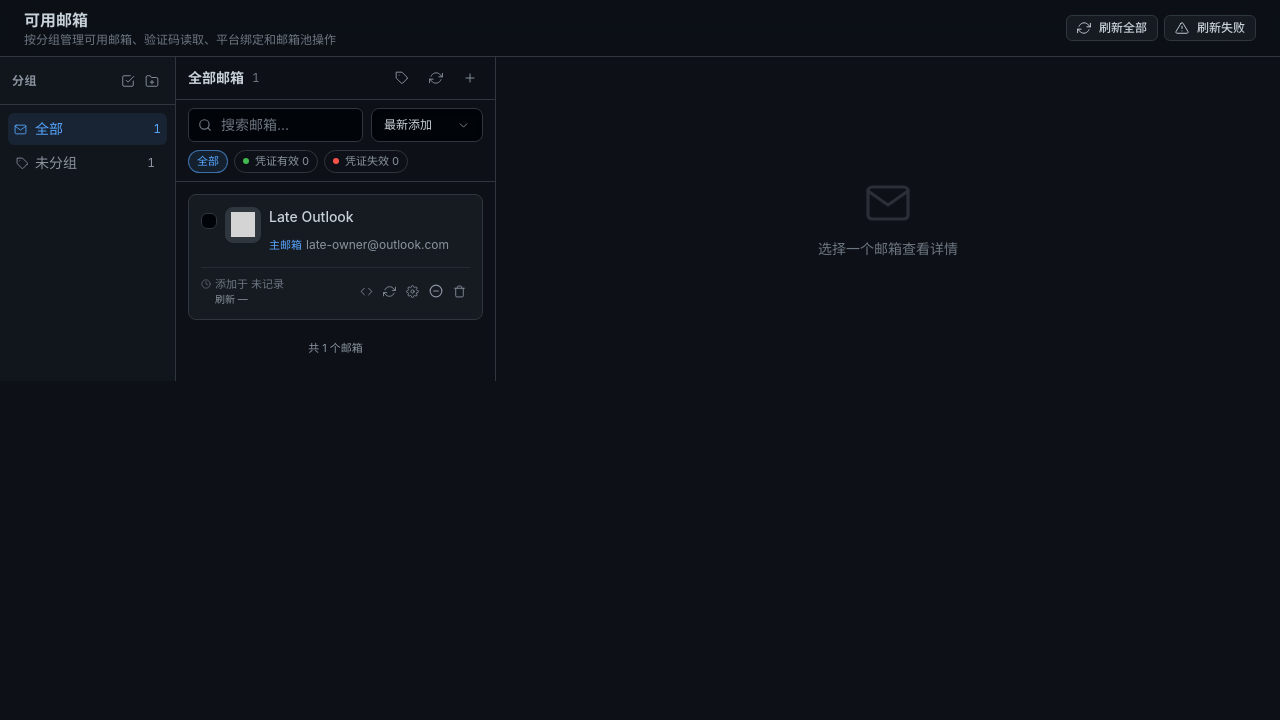
Test: settings credential tab uses account detail provider when list cache misses the account
Click the button titled "设置" at coordinates (412, 291), box [402,281,423,302]
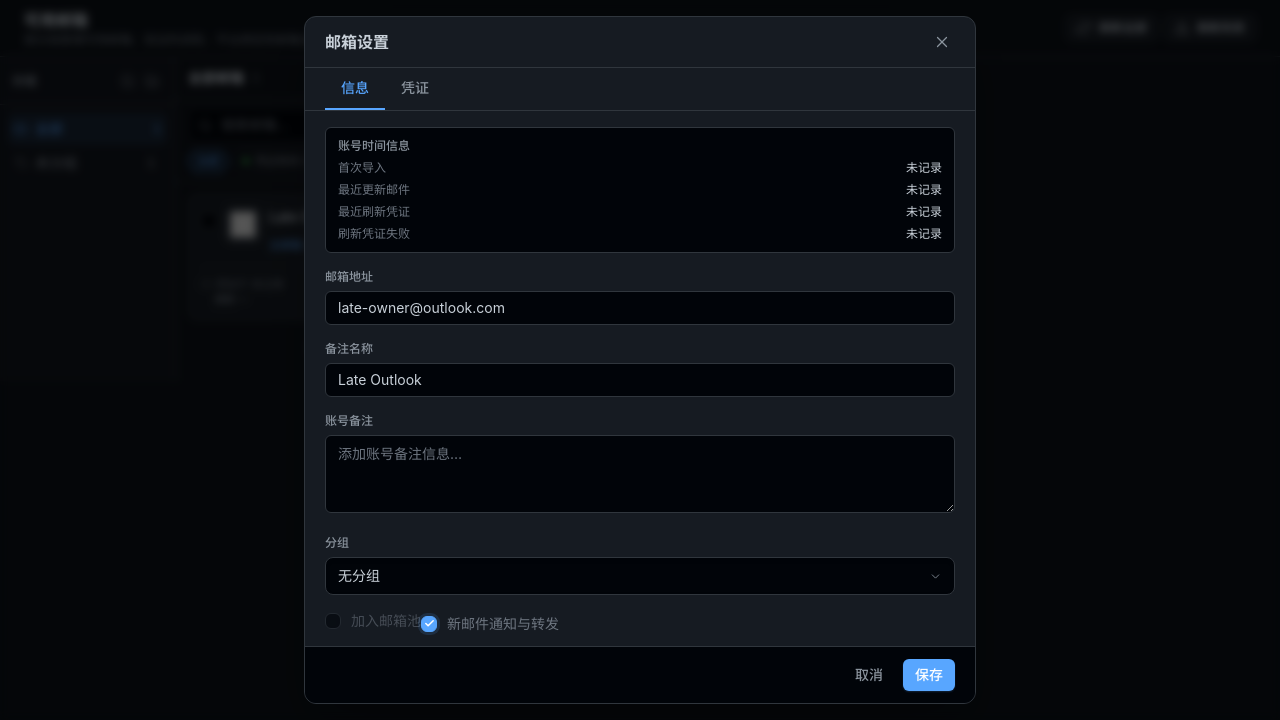
Click the button "凭证" at coordinates (415, 89), box [385,68,445,110]
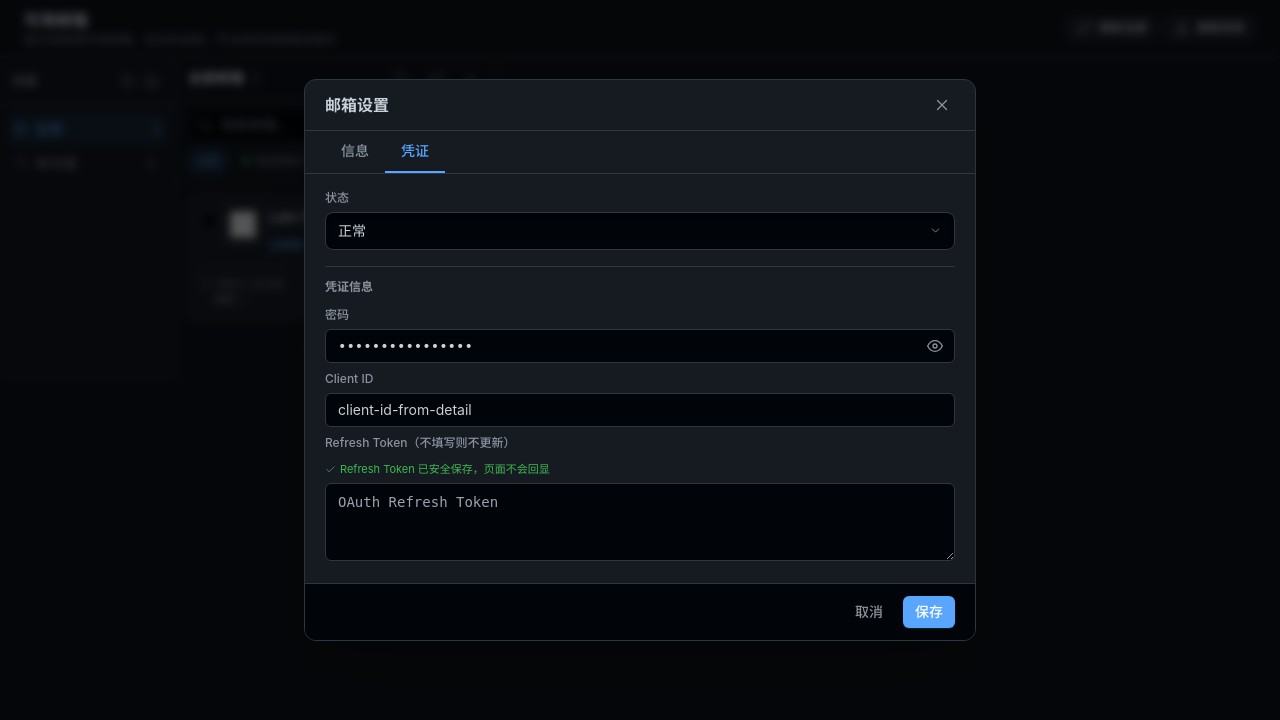
Expected: the password field showing "outlook-password" is shown, [325,329,955,363]
Expected: the field showing "client-id-from-detail" is shown, [325,393,955,427]
Expected: the text "Refresh Token 已安全保存，页面不会回显" is shown, [325,461,550,477]
